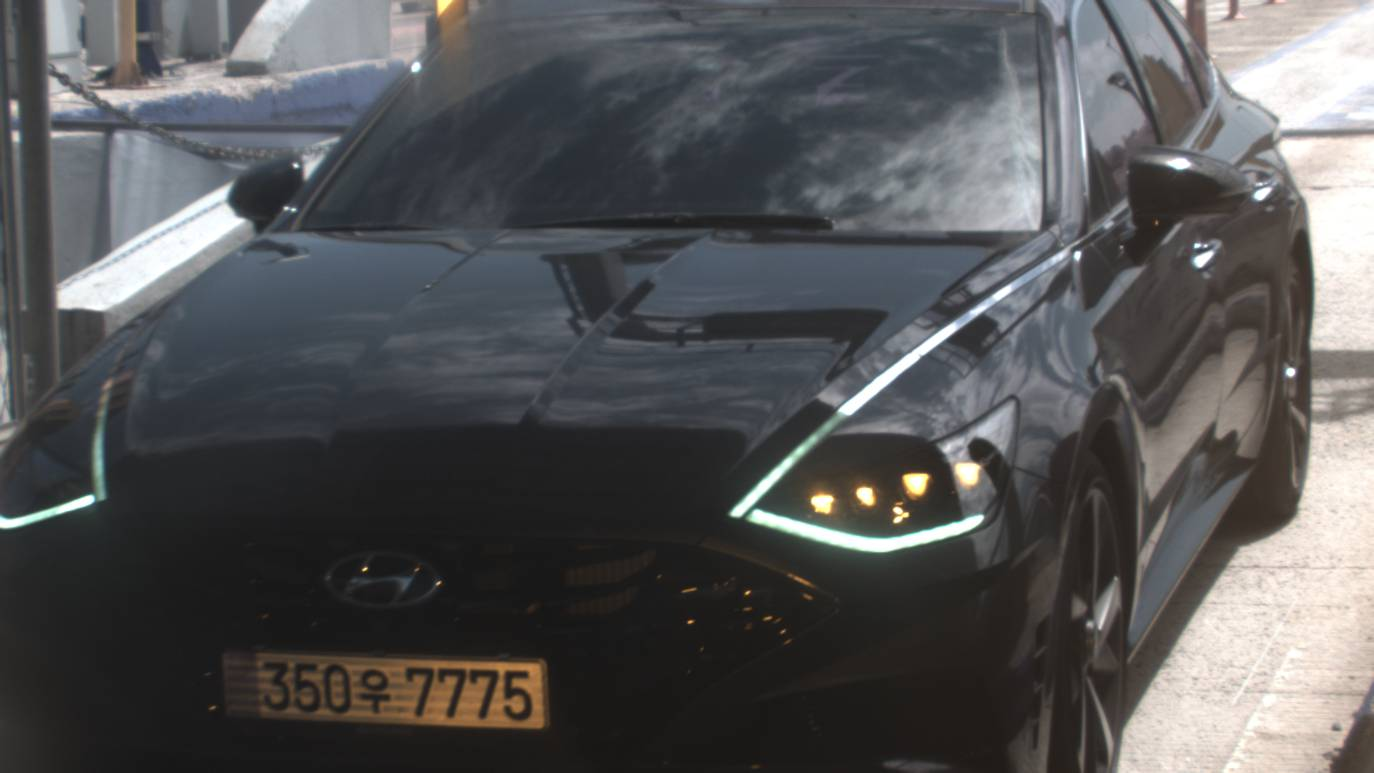car: (1, 1, 1317, 771)
plate: (194, 646, 548, 731)
